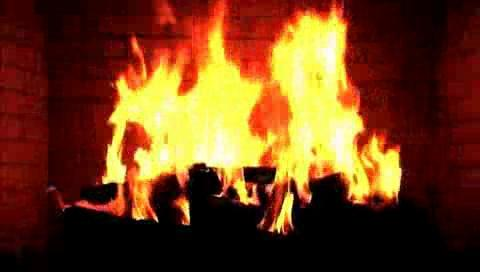fire: (68, 0, 450, 231)
